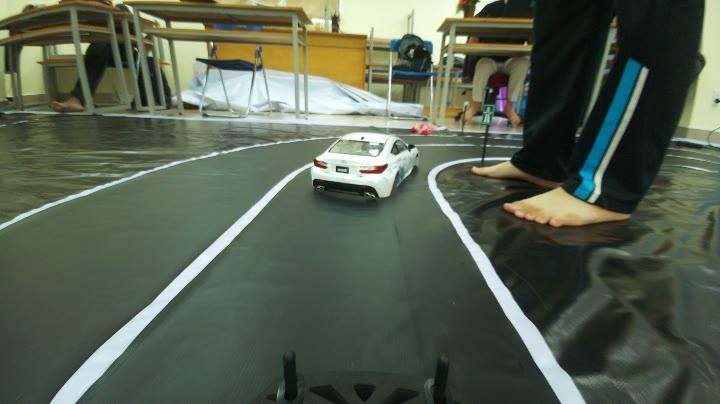car: (310, 120, 409, 212)
highway_entry: (478, 102, 496, 126)
